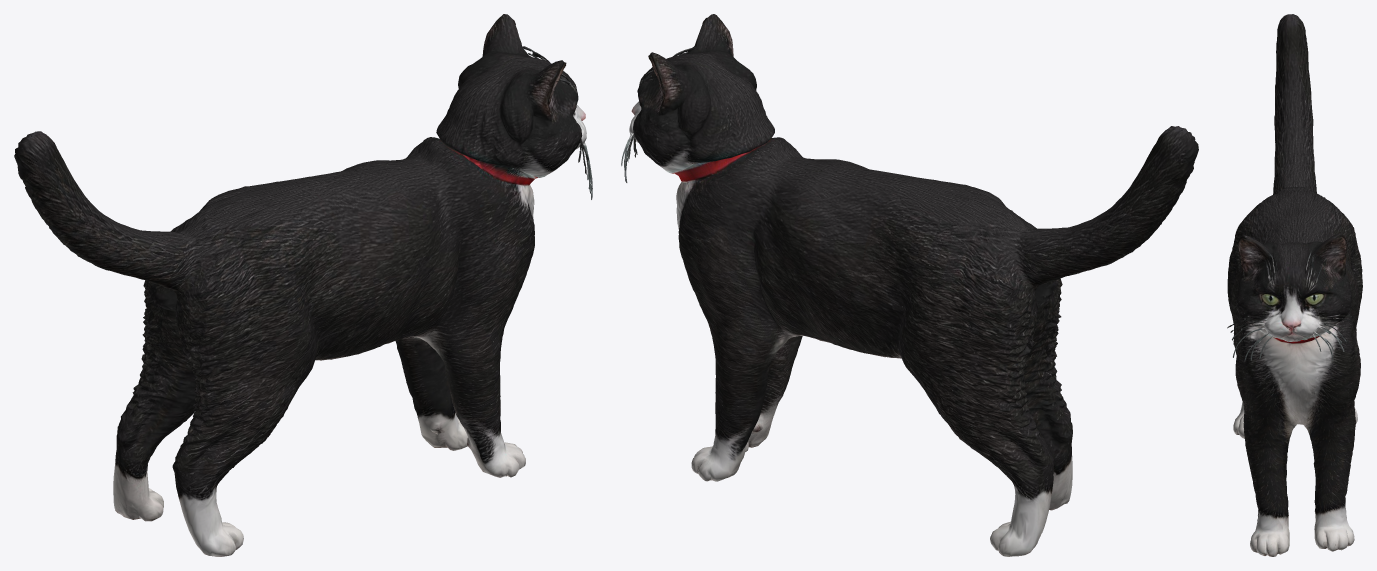
The model's file is JESSCAT.glb.
3 views of the same model, side by side, from view 1: azimuth 30°, elevation 25°; view 2: azimuth 150°, elevation 25°; view 3: azimuth 270°, elevation 25° (orthographic). The views are drawn at different scales.
Visible parts, largest first — view 1: tripo_node_d6791906-fa98-44ae-a153-55eb6a9fd0e4; view 2: tripo_node_d6791906-fa98-44ae-a153-55eb6a9fd0e4; view 3: tripo_node_d6791906-fa98-44ae-a153-55eb6a9fd0e4.
Boxes of the visible parts, x1,y1,x2,y2 form: tripo_node_d6791906-fa98-44ae-a153-55eb6a9fd0e4: (14,14,592,556); tripo_node_d6791906-fa98-44ae-a153-55eb6a9fd0e4: (621,14,1198,556); tripo_node_d6791906-fa98-44ae-a153-55eb6a9fd0e4: (1227,14,1362,556).
Bounding box in the file's own units: 1.35 × 0.9997 × 0.3446.
Materials: 1 (1 with a texture image).
